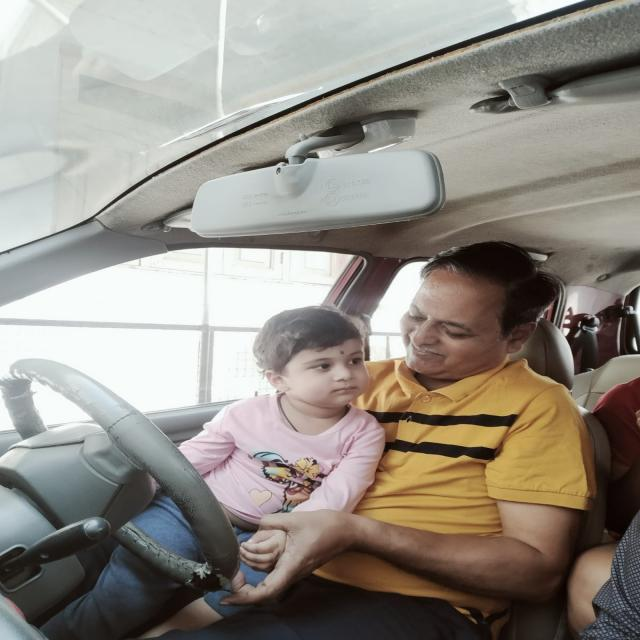child: (238, 296, 391, 423)
person: (396, 235, 558, 396)
